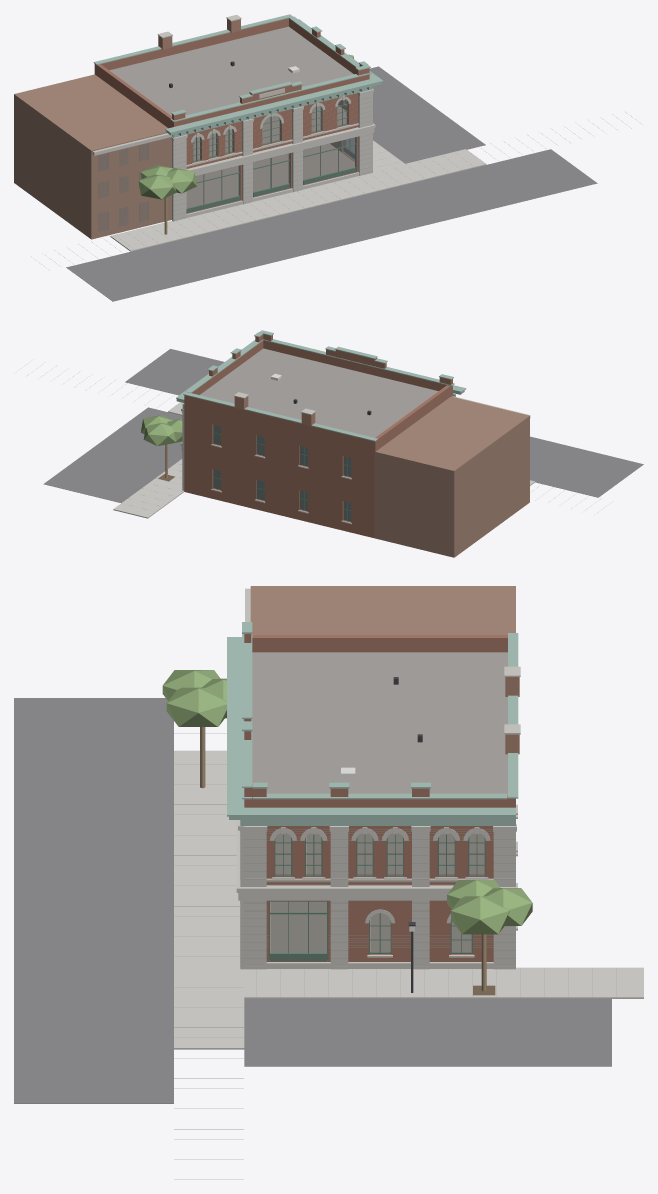
The model's file is clay-halifax-waterfront-warehouse-clay-v001.glb.
3 renders of one model, top to bottom at view 1: azimuth 30°, elevation 25°; view 2: azimuth 150°, elevation 25°; view 3: azimuth 270°, elevation 25°, orthographic. The views are drawn at different scales.
Visible parts, largest first — view 1: CLAY_ASPHALT, CLAY_NEIGHBOUR, CLAY_ROOF, CLAY_WALL, CLAY_CONCRETE, CLAY_STONE, CLAY_GLASS, CLAY_FLOOR, CLAY_COPPER, CLAY_FRAME, CLAY_PLANTING, CLAY_JOINT; view 2: CLAY_WALL, CLAY_NEIGHBOUR, CLAY_ASPHALT, CLAY_ROOF, CLAY_COPPER, CLAY_CONCRETE, CLAY_FRAME, CLAY_GLASS, CLAY_PLANTING, CLAY_STONE, CLAY_BRICK; view 3: CLAY_ASPHALT, CLAY_ROOF, CLAY_CONCRETE, CLAY_WALL, CLAY_STONE, CLAY_NEIGHBOUR, CLAY_COPPER, CLAY_FLOOR, CLAY_GLASS, CLAY_PLANTING, CLAY_JOINT, CLAY_FRAME (+1 smaller).
Part boxes in pixels (box(x1,y1,x2,y2)): CLAY_ASPHALT: box(66, 66, 597, 301); CLAY_NEIGHBOUR: box(14, 74, 171, 239); CLAY_ROOF: box(109, 26, 353, 115); CLAY_WALL: box(94, 18, 369, 213); CLAY_CONCRETE: box(110, 138, 486, 251); CLAY_STONE: box(92, 15, 375, 221); CLAY_GLASS: box(98, 99, 355, 231); CLAY_FLOOR: box(186, 105, 354, 208); CLAY_COPPER: box(93, 14, 383, 137); CLAY_FRAME: box(186, 99, 356, 213); CLAY_PLANTING: box(138, 54, 353, 199); CLAY_JOINT: box(33, 97, 642, 270); CLAY_WALL: box(184, 334, 452, 537); CLAY_NEIGHBOUR: box(374, 396, 529, 557); CLAY_ASPHALT: box(43, 349, 643, 502); CLAY_ROOF: box(200, 348, 438, 437); CLAY_COPPER: box(176, 330, 466, 441); CLAY_CONCRETE: box(113, 402, 535, 518); CLAY_FRAME: box(213, 425, 351, 521); CLAY_GLASS: box(213, 425, 351, 521); CLAY_PLANTING: box(141, 415, 182, 446); CLAY_STONE: box(180, 392, 530, 524); CLAY_BRICK: box(234, 396, 315, 426); CLAY_ASPHALT: box(14, 698, 611, 1103); CLAY_ROOF: box(252, 652, 507, 795); CLAY_CONCRETE: box(174, 750, 643, 1049); CLAY_WALL: box(244, 634, 515, 961); CLAY_STONE: box(236, 588, 520, 969); CLAY_NEIGHBOUR: box(250, 586, 515, 634); CLAY_COPPER: box(227, 622, 518, 825); CLAY_FLOOR: box(270, 833, 484, 952); CLAY_GLASS: box(270, 833, 484, 952); CLAY_PLANTING: box(162, 670, 532, 934); CLAY_JOINT: box(174, 733, 616, 1179); CLAY_FRAME: box(269, 834, 485, 961).
Bounding box in the file's own units: 73.52 × 13.3 × 39.4.
